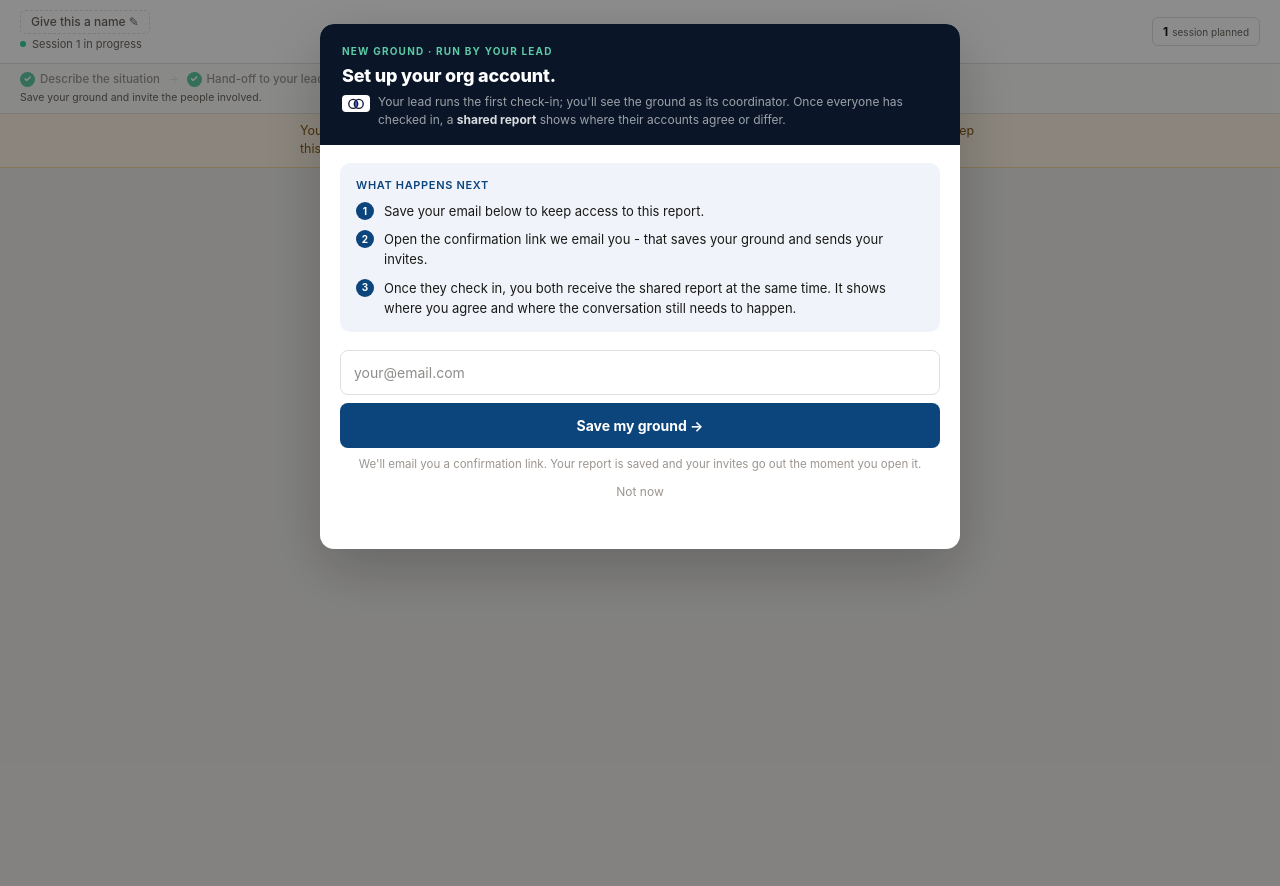
Test: the cadence nobody picked › says the rhythm is not set yet, rather than showing a silent default
Type "sahar@x.test" into the field with placeholder "your@email.com" at coordinates (640, 372), box left=340, top=350, right=940, bottom=395
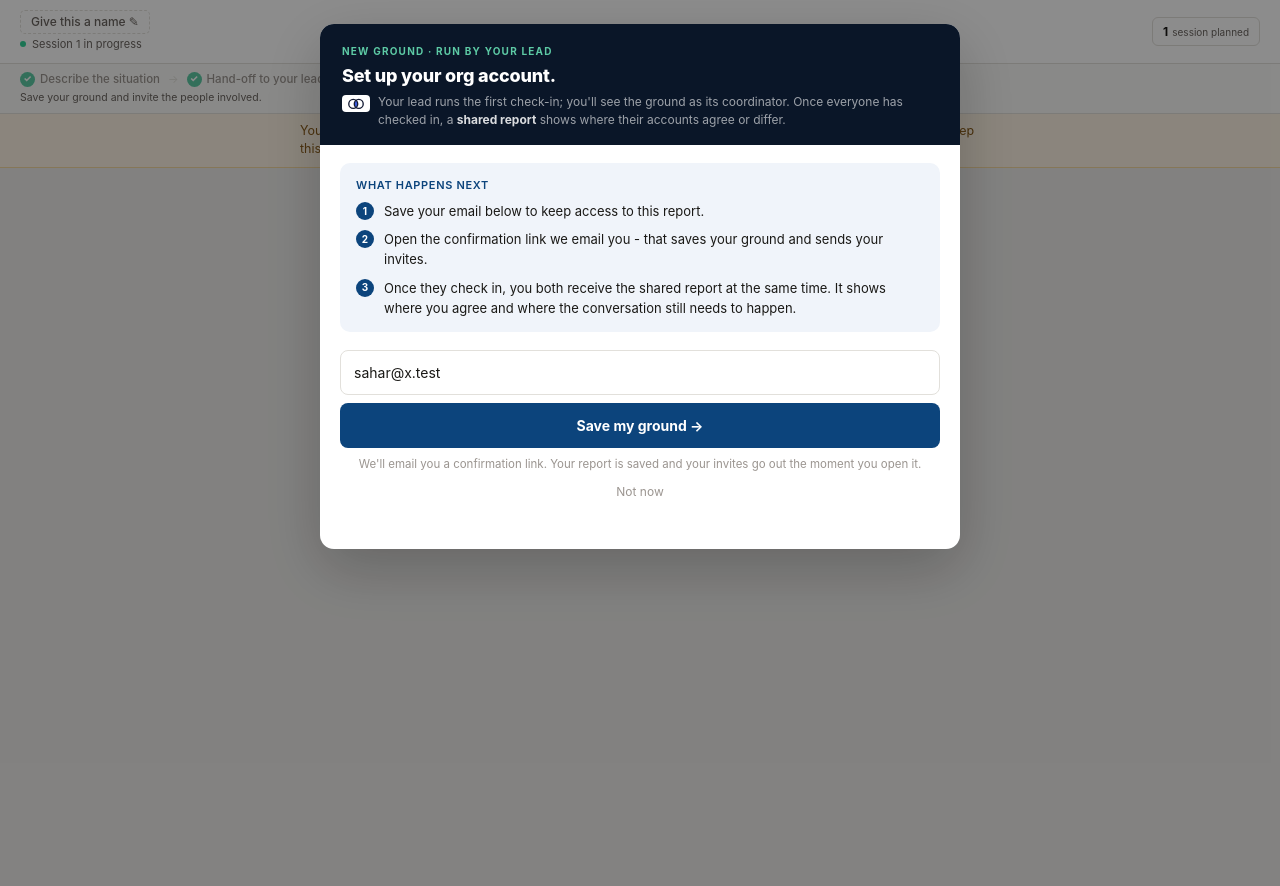
Click the button "Save my ground →" at coordinates (640, 425), box left=340, top=403, right=940, bottom=448
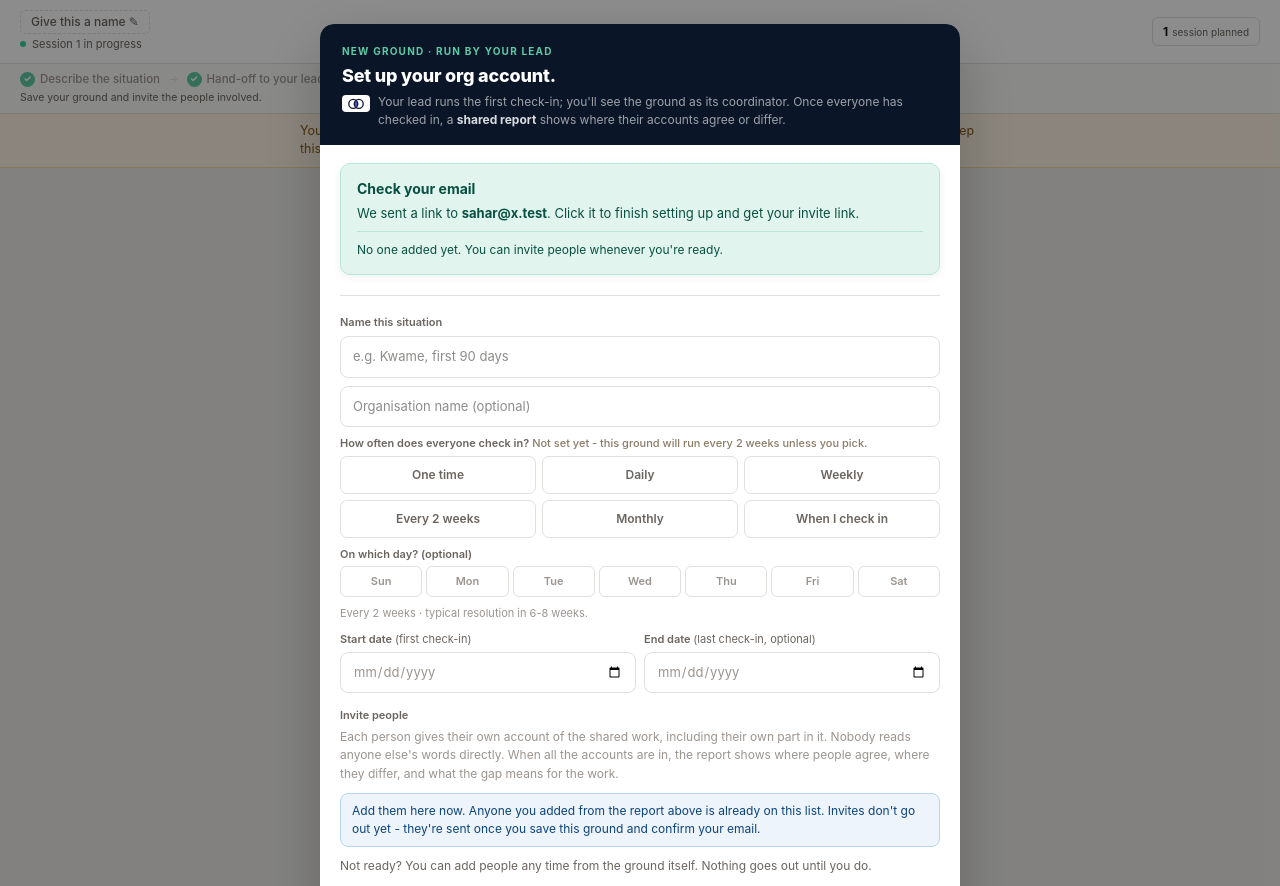
Expected: the text "run every 2 weeks unless you pick" is shown, left=529, top=436, right=867, bottom=450
